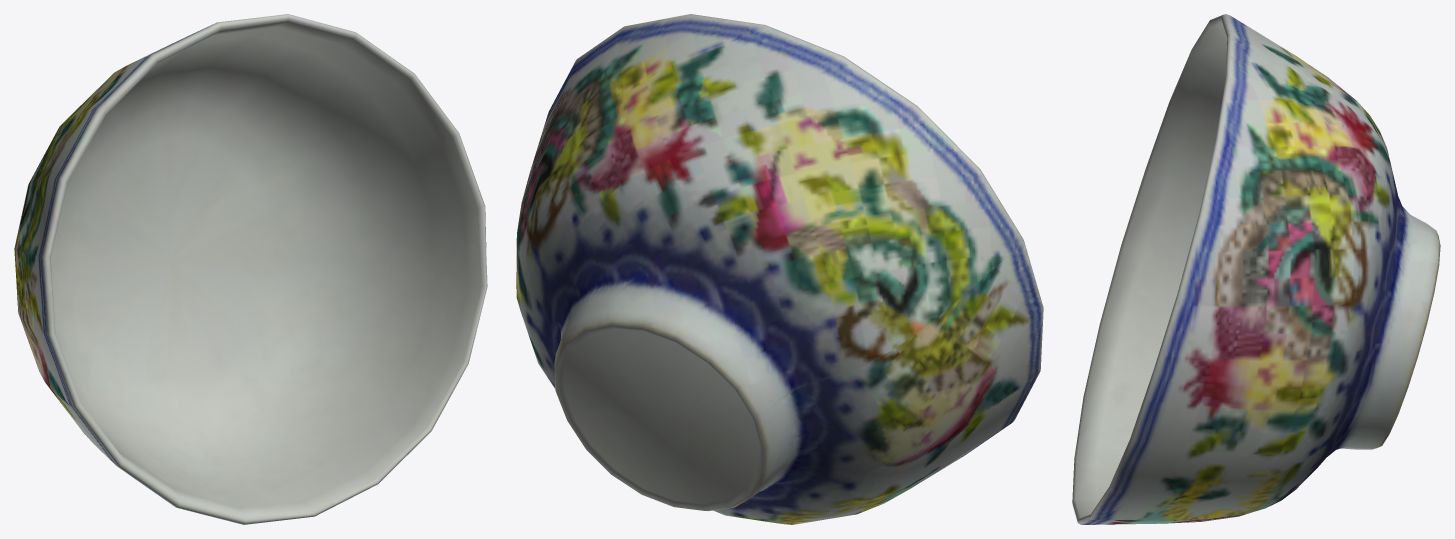
Rendered from ref_chinabowl.glb.
3 views of the same model, side by side, from view 1: azimuth 30°, elevation 25°; view 2: azimuth 150°, elevation 25°; view 3: azimuth 270°, elevation 25° (orthographic). The views are drawn at different scales.
Visible parts, largest first — view 1: ref_chinabowl; view 2: ref_chinabowl; view 3: ref_chinabowl.
Part boxes in pixels (x1,y1,x2,y2): ref_chinabowl: [14, 14, 487, 524]; ref_chinabowl: [516, 14, 1043, 524]; ref_chinabowl: [1072, 14, 1440, 524].
Size of the model in its own units: 1 by 0.9652 by 0.6961.
1 material, 1 textured.
